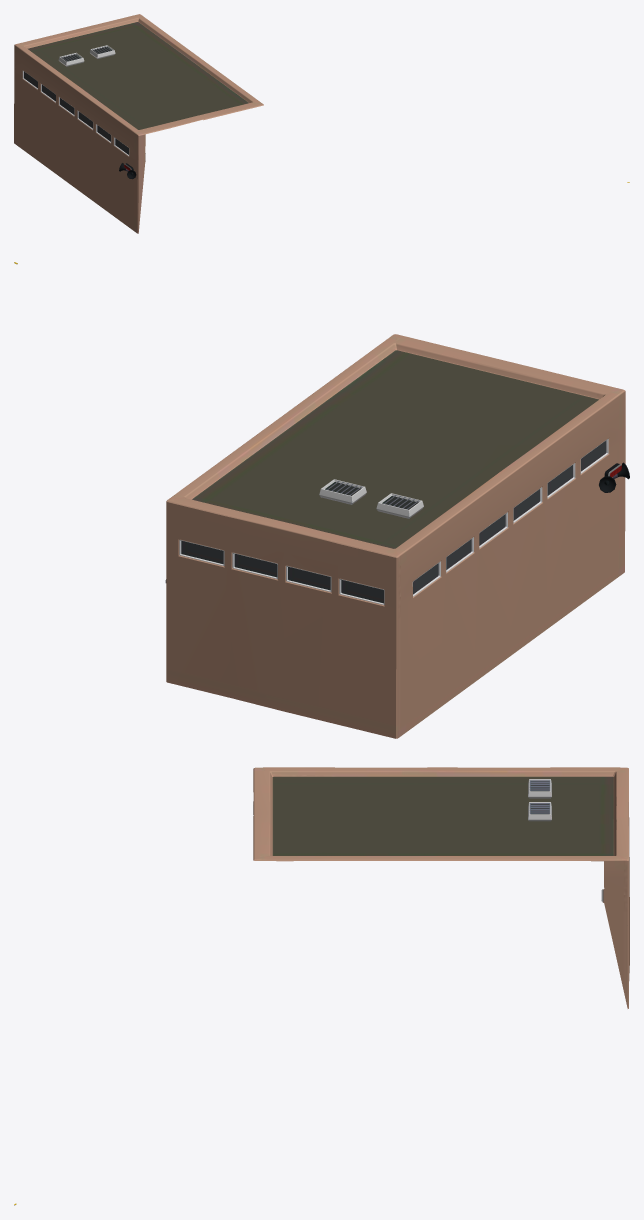
File: factory_segment.glb
The picture shows the model from 3 angles, top to bottom: view 1: azimuth 30°, elevation 25°; view 2: azimuth 150°, elevation 25°; view 3: azimuth 270°, elevation 25°; orthographic projection. The views are drawn at different scales.
Visible parts, largest first — view 1: node_id32; view 2: node_id32; view 3: node_id32.
Boxes of the visible parts, box(x1,y1,x2,y2) form: node_id32: box(14, 14, 263, 233); node_id32: box(165, 334, 625, 738); node_id32: box(253, 767, 629, 1008).
Bounding box in the file's own units: 0.00743 × 0.0017 × 0.00626.
Materials: 13 (13 with a texture image).
